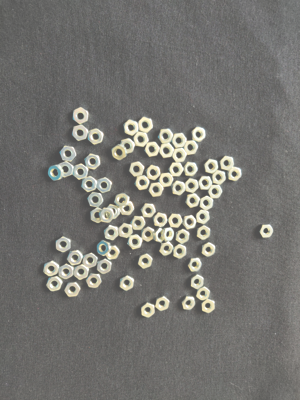nut: (72, 125, 89, 142), (111, 144, 127, 162), (43, 261, 60, 277), (58, 263, 74, 280), (60, 146, 77, 162), (73, 108, 89, 125), (85, 154, 101, 171), (81, 176, 97, 193), (96, 178, 113, 194), (47, 276, 63, 292), (67, 250, 83, 266), (48, 165, 64, 181), (88, 129, 104, 145), (88, 192, 104, 208), (123, 120, 139, 136), (133, 132, 149, 148), (129, 162, 145, 178), (73, 164, 88, 181), (56, 237, 71, 253), (65, 282, 81, 297), (74, 265, 89, 281), (86, 274, 102, 289), (104, 225, 119, 241), (99, 208, 114, 224), (114, 193, 130, 208), (120, 138, 135, 154), (138, 117, 153, 133), (155, 296, 170, 312), (127, 235, 143, 250), (135, 175, 150, 191), (146, 165, 161, 181), (144, 142, 160, 157), (159, 143, 175, 158), (158, 129, 174, 144), (175, 229, 190, 245), (141, 302, 155, 319), (83, 253, 98, 268), (97, 259, 112, 274), (97, 241, 112, 256), (120, 201, 135, 216), (159, 173, 174, 188), (172, 133, 187, 148), (172, 148, 187, 163), (169, 162, 184, 177), (153, 213, 168, 228), (161, 227, 176, 242), (171, 181, 186, 196), (182, 215, 197, 230), (183, 162, 198, 177), (204, 159, 219, 174), (220, 156, 235, 171), (59, 162, 73, 178), (91, 208, 105, 224), (106, 204, 120, 220), (119, 223, 133, 239), (130, 217, 146, 231), (192, 127, 206, 143), (168, 214, 184, 228), (197, 225, 211, 241), (106, 245, 120, 260), (120, 276, 134, 291), (141, 204, 156, 218), (139, 254, 153, 269), (149, 183, 164, 197), (184, 140, 198, 155), (182, 296, 196, 311), (188, 258, 203, 272), (202, 243, 216, 258), (196, 210, 210, 225), (186, 193, 200, 208), (185, 178, 199, 193), (200, 196, 214, 211), (199, 176, 213, 191), (208, 185, 223, 199), (212, 171, 226, 186), (228, 167, 242, 182), (142, 227, 155, 243), (191, 274, 204, 290), (160, 242, 174, 256), (260, 225, 274, 239), (202, 299, 215, 314), (153, 228, 165, 244), (197, 287, 210, 301), (174, 244, 186, 259)
